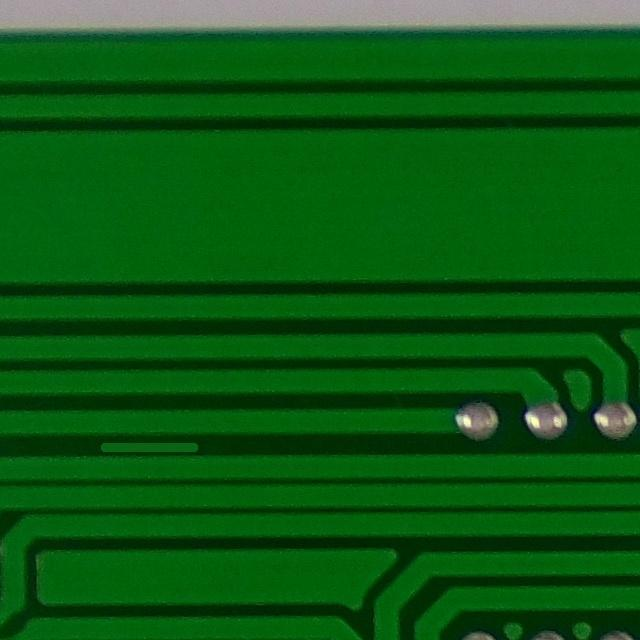spurious_copper: (92, 429, 209, 469)
